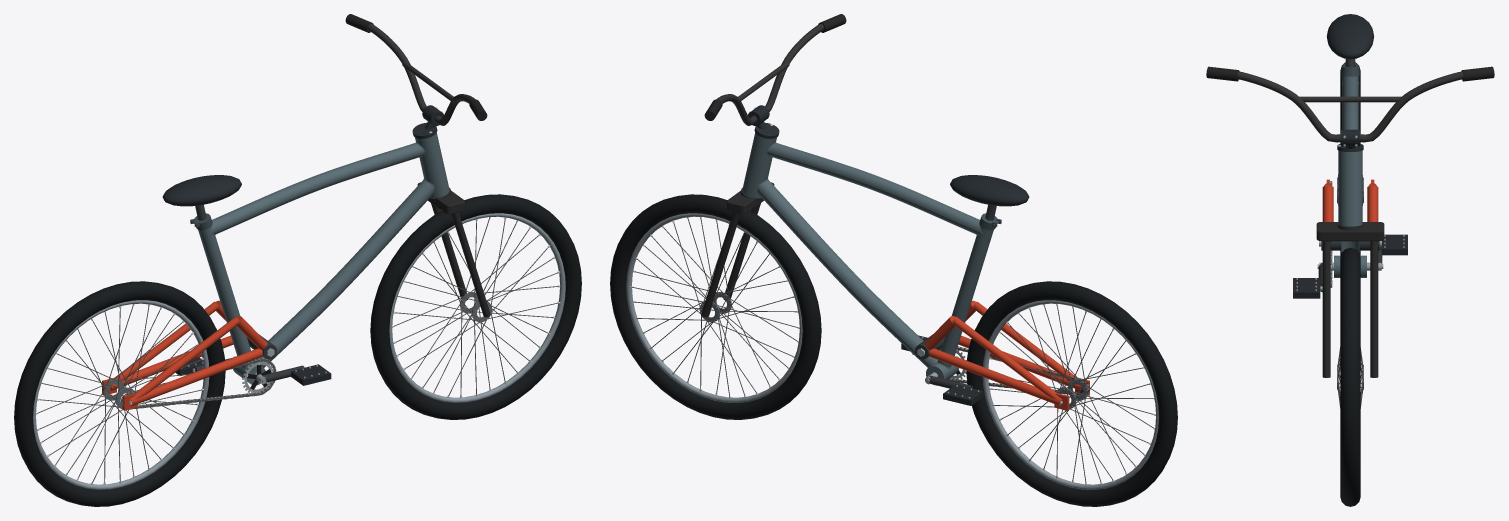
The model's file is mtb_fs.glb.
The picture shows the model from 3 angles, left to right: view 1: azimuth 30°, elevation 25°; view 2: azimuth 150°, elevation 25°; view 3: azimuth 270°, elevation 25°; orthographic projection. The views are drawn at different scales.
Visible parts, largest first — view 1: wk:tyres, wheel:spokes (×2), frame:downTube, frame:topTube, frame:seatTube, wk:seat, rearFrame:lowerStay1, frame:headTube, bars:bar, rearFrame:upperStay1, fork:bladeR, rearFrame:upperStay-1 (+1 smaller); view 2: wk:tyres, wheel:spokes (×2), frame:downTube, frame:topTube, frame:seatTube, wk:seat, rearFrame:lowerStay-1, frame:headTube, bars:bar, rearFrame:upperStay-1, fork:bladeL, rearFrame:upperStay1 (+1 smaller); view 3: wk:tyres, bars:bar, frame:headTube, wk:seat, fork:bladeL, fork:bladeR, fork:crown, frame:topTube, bars:crossbar, pedal:cage1, pedal:cage-1, rearFrame:upright-1 (+4 smaller).
Boxes of the visible parts, x1,y1,x2,y2 form: wk:tyres: (14, 194, 581, 506); wheel:spokes (×2): (37, 218, 558, 482); frame:downTube: (257, 179, 434, 367); frame:topTube: (210, 143, 424, 234); frame:seatTube: (198, 226, 250, 367); wk:seat: (162, 175, 241, 206); rearFrame:lowerStay1: (130, 348, 262, 406); frame:headTube: (415, 132, 449, 197); bars:bar: (367, 23, 474, 125); rearFrame:upperStay1: (129, 317, 239, 402); fork:bladeR: (451, 212, 490, 317); rearFrame:upperStay-1: (110, 301, 218, 387); wk:tyres: (610, 194, 1177, 506); wheel:spokes (×2): (632, 219, 1153, 483); frame:downTube: (757, 179, 937, 367); frame:topTube: (767, 143, 981, 234); frame:seatTube: (937, 226, 993, 367); wk:seat: (950, 175, 1029, 206); rearFrame:lowerStay-1: (929, 348, 1061, 406); frame:headTube: (742, 132, 776, 197); bars:bar: (717, 23, 824, 125); rearFrame:upperStay-1: (952, 317, 1062, 402); fork:bladeL: (701, 212, 740, 317); rearFrame:upperStay1: (973, 301, 1081, 387); wk:tyres: (1340, 62, 1360, 506); bars:bar: (1237, 71, 1463, 142); frame:headTube: (1338, 150, 1362, 226); wk:seat: (1326, 14, 1374, 59); fork:bladeL: (1370, 241, 1378, 377); fork:bladeR: (1322, 241, 1330, 377); fork:crown: (1316, 222, 1384, 241); frame:topTube: (1342, 76, 1358, 129); bars:crossbar: (1299, 96, 1401, 102); pedal:cage1: (1293, 278, 1320, 298); pedal:cage-1: (1380, 234, 1407, 255); rearFrame:upright-1: (1367, 186, 1378, 221).
Size of the model in its own units: 1.92 by 1.2 by 0.7883.
